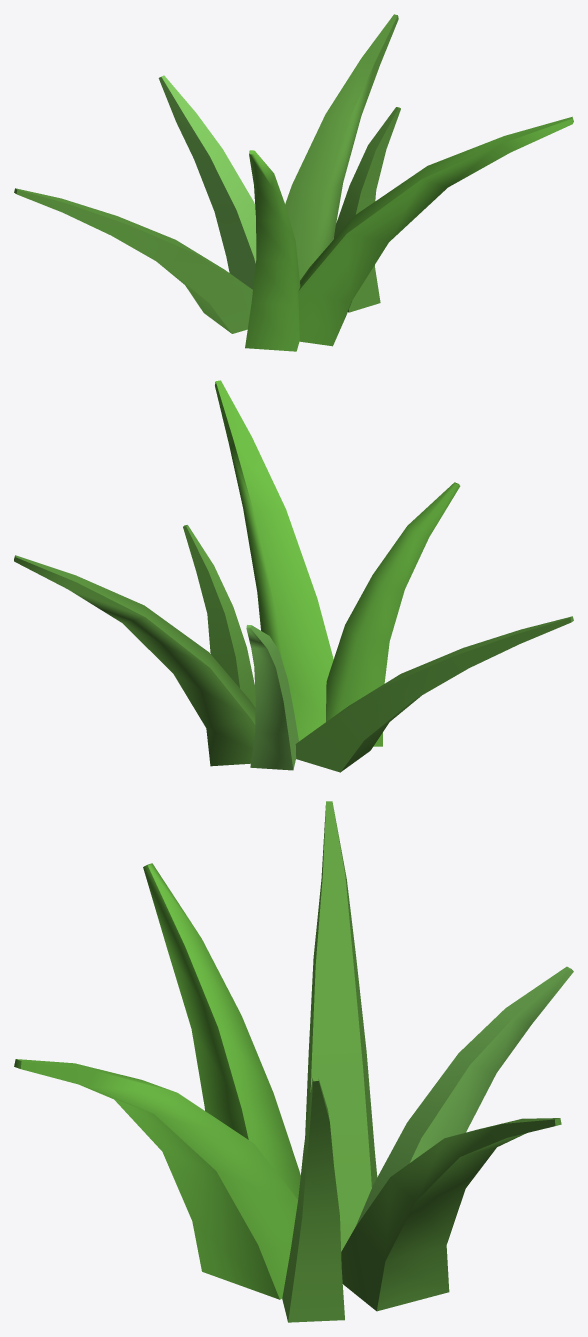
File: Grass_Green_1.fbx
The picture shows the model from 3 angles, top to bottom: view 1: azimuth 30°, elevation 25°; view 2: azimuth 150°, elevation 25°; view 3: azimuth 270°, elevation 25°; orthographic projection. The views are drawn at different scales.
Visible parts, largest first — view 1: Cube.004, Cube.007, Cube.003, Cube.005, Cube.314, Cube.006; view 2: Cube.004, Cube.007, Cube.003, Cube.005, Cube.314, Cube.006; view 3: Cube.004, Cube.005, Cube.007, Cube.003, Cube.314, Cube.006.
Boxes of the visible parts, x1,y1,x2,y2 form: Cube.004: [298, 116, 573, 346]; Cube.007: [285, 14, 398, 280]; Cube.003: [245, 150, 300, 351]; Cube.005: [14, 188, 252, 333]; Cube.314: [158, 75, 256, 289]; Cube.006: [333, 107, 400, 312]; Cube.004: [215, 380, 333, 741]; Cube.007: [14, 555, 255, 766]; Cube.003: [326, 482, 460, 746]; Cube.005: [295, 616, 573, 772]; Cube.314: [246, 625, 298, 770]; Cube.006: [183, 525, 255, 707]; Cube.004: [14, 1059, 297, 1299]; Cube.005: [305, 801, 377, 1251]; Cube.007: [341, 1118, 561, 1311]; Cube.003: [143, 863, 300, 1199]; Cube.314: [356, 966, 573, 1225]; Cube.006: [282, 1077, 344, 1322].
Bounding box in the file's own units: 124 × 60.22 × 90.26.
